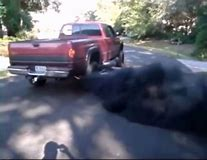smoke: (81, 61, 207, 137)
